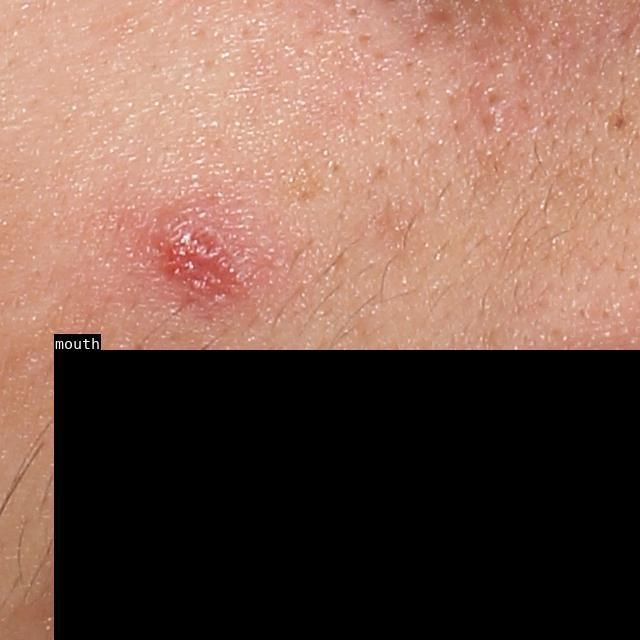papule: (155, 226, 229, 295)
